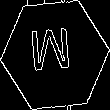M_S: (32, 27, 78, 83)
